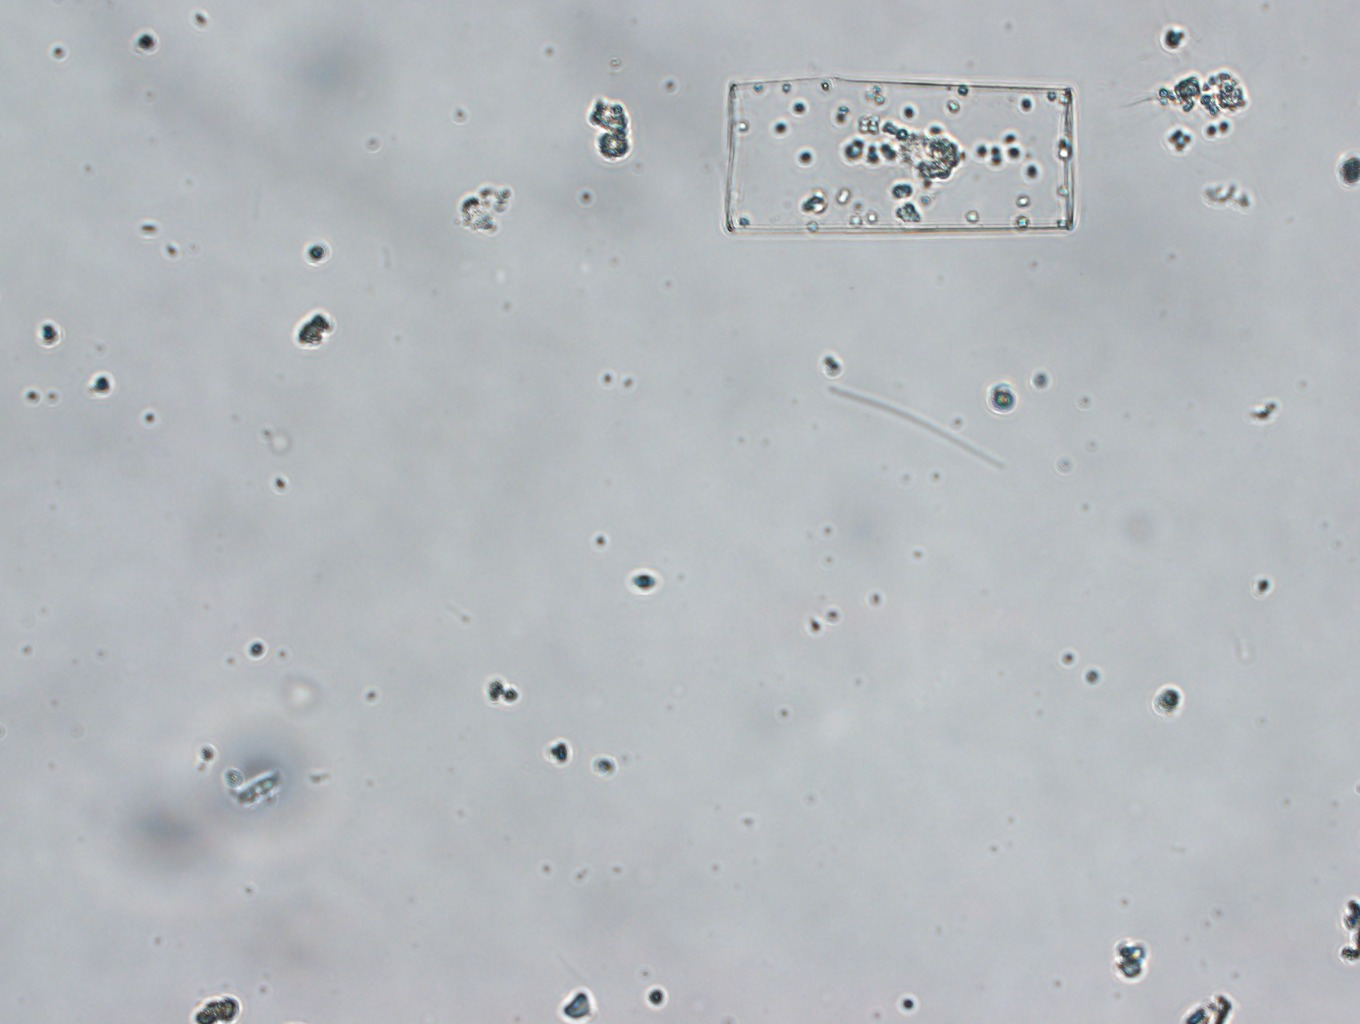guinardia flaccida: (714, 66, 1080, 248)
